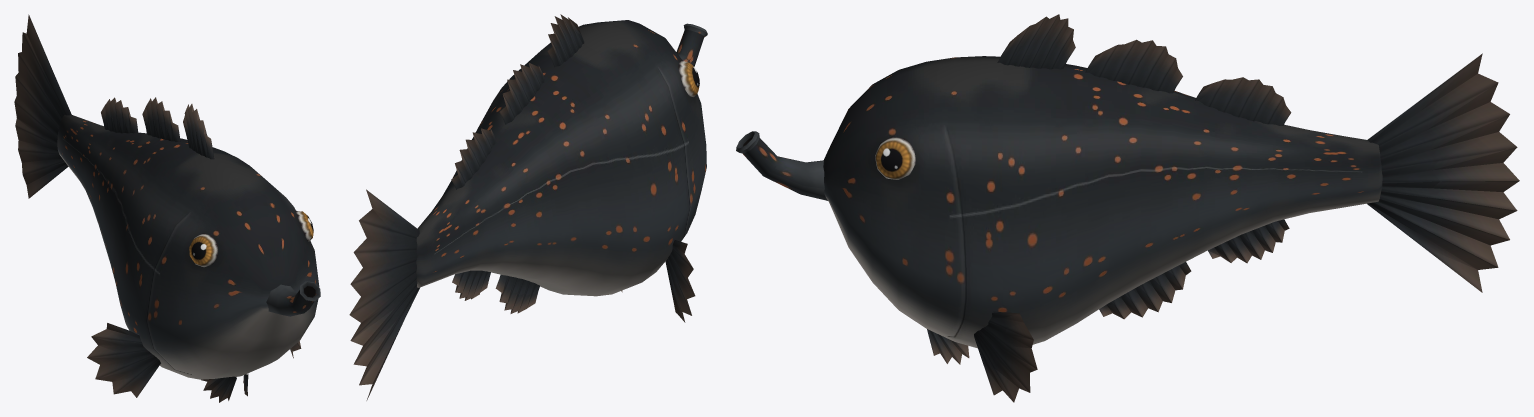
The model's file is kettle-cod.glb.
3 renders of one model, left to right at view 1: azimuth 30°, elevation 25°; view 2: azimuth 150°, elevation 25°; view 3: azimuth 270°, elevation 25°, orthographic. The views are drawn at different scales.
Parts seen in each view (by area): view 1: kettle-cod; view 2: kettle-cod; view 3: kettle-cod.
Boxes of the visible parts, x1,y1,x2,y2 form: kettle-cod: (14,14,320,402); kettle-cod: (349,14,707,400); kettle-cod: (736,14,1519,402).
Size of the model in its own units: 0.4264 by 0.4824 by 1.
1 material, 1 textured.
